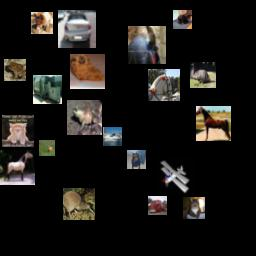airplane: (157, 157, 195, 195)
automobile: (58, 10, 96, 48)
bird: (128, 26, 166, 64), (63, 188, 95, 220), (190, 62, 216, 88)
cat: (2, 115, 34, 147), (183, 197, 205, 219), (173, 10, 192, 29)
deer: (39, 140, 55, 156)
dog: (70, 54, 105, 89), (31, 12, 53, 34), (127, 150, 146, 169)
frog: (67, 100, 102, 135), (4, 59, 26, 81)
ship: (103, 127, 122, 146)
truck: (33, 75, 62, 104), (148, 196, 167, 215)
